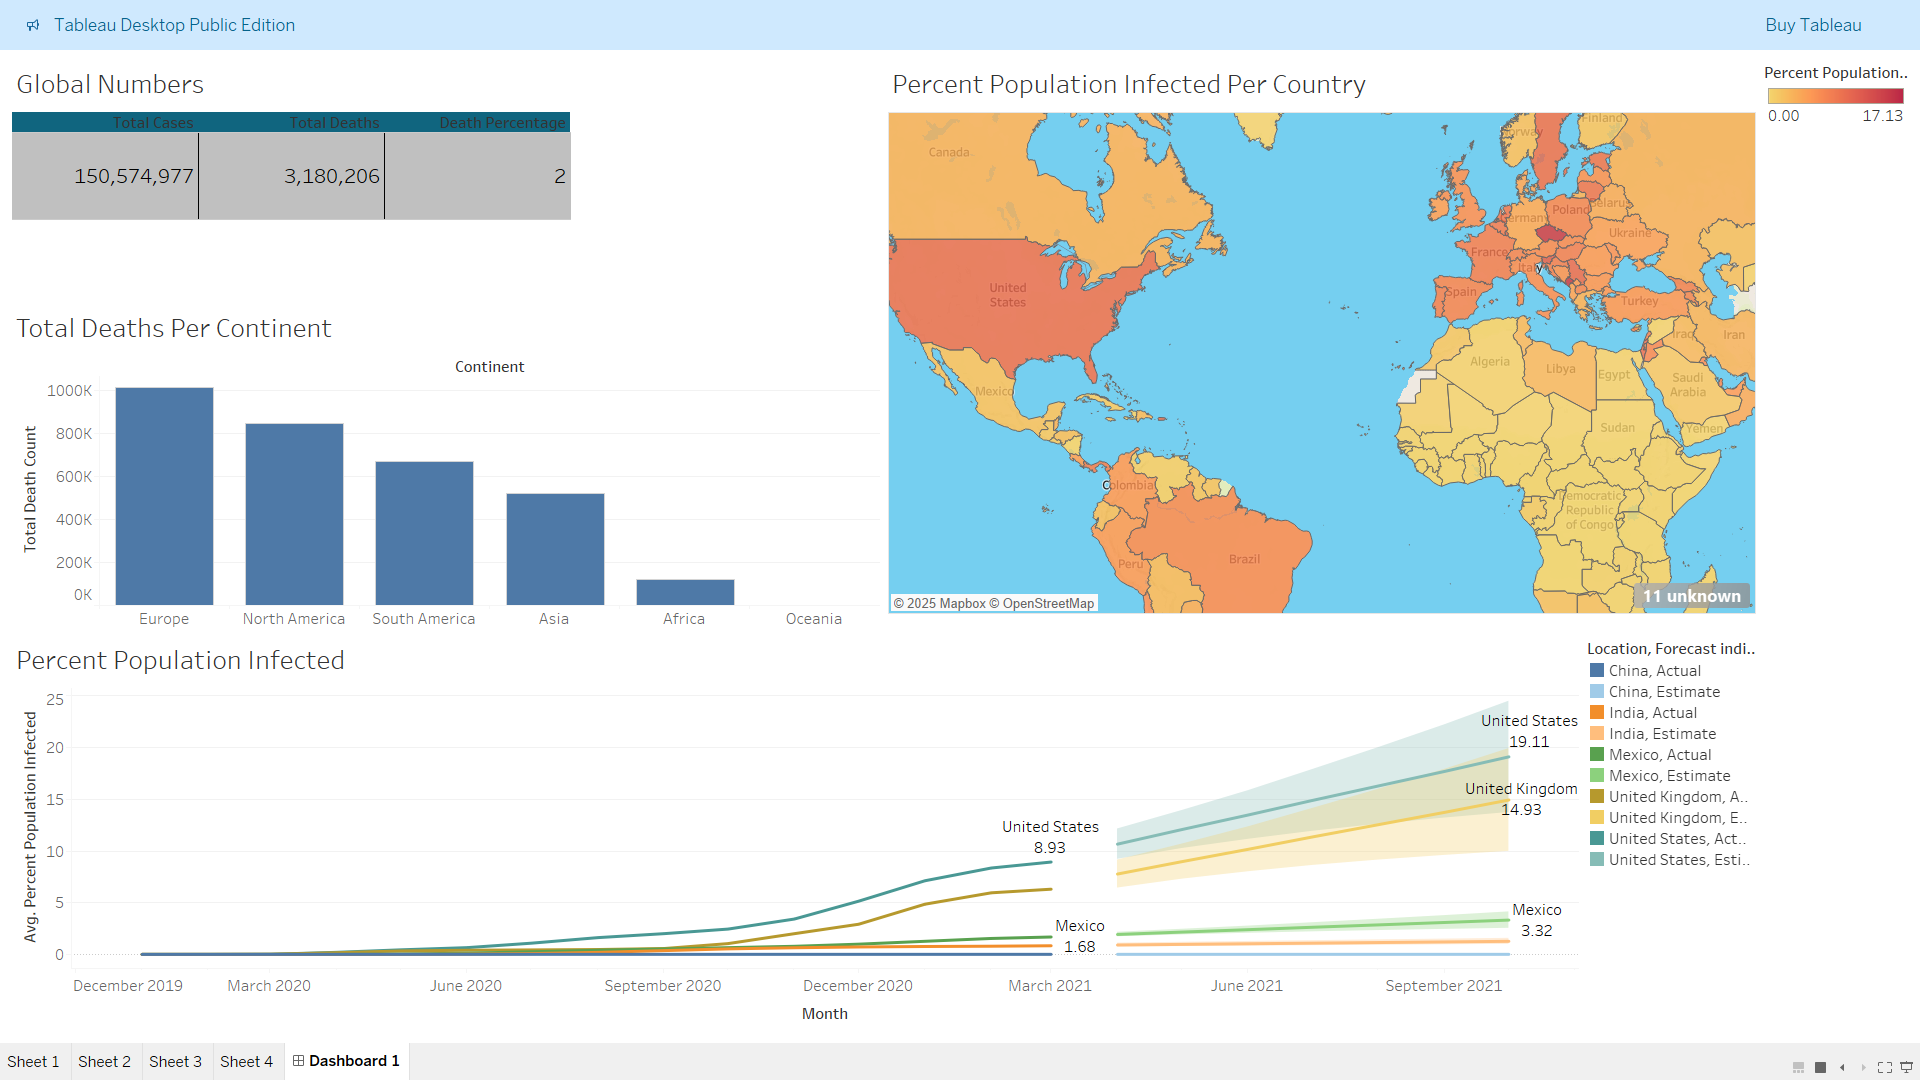

What the dashboard file says about the page in this screenshot:
{"tool":"tableau","page":{"name":"Dashboard 1","canvas":[1000,1000],"units":"permille","ordinal":0},"visuals":[{"type":"worksheet","title":"Sheet 1","mark":"Automatic","box":[6.8,12.9,428.6,243.5]},{"type":"worksheet","title":"Sheet 3","mark":"Automatic","box":[435.4,12.9,428.6,574.1]},{"type":"legend","title":"Sheet 3","param":"[federated.1u6pgzk0rhh873144wigi0cf6ax3].[sum:PercentPopulationInfected:qk]","box":[864.1,12.9,129.1,117.7]},{"type":"worksheet","title":"Sheet 2","mark":"Automatic","rows":["TotalDeathCount"],"cols":["location"],"box":[6.8,256.4,428.6,330.6]},{"type":"worksheet","title":"Sheet 4","mark":"Automatic","rows":["PercentPopulationInfected"],"cols":["date"],"box":[6.8,587,770.8,400.1]},{"type":"legend","title":"Sheet 4","param":"[federated.0fv2uox0hbhi61182v4641vh426j].[none:Location:nk]\n[federated.0fv2uox0h","box":[777.6,587,86.5,400.1]}]}

Visuals, with their boxes on the dashboard's canvas, which has no fixed pixel size, in thousandths of its width and height (x1, y1, x2, y2). These are canvas units, not pixel positions in the 1920x1080 screenshot, which may show the page scaled, cropped or inside an application window:
"Sheet 1" worksheet: detection(7, 13, 435, 256)
"Sheet 3" worksheet: detection(435, 13, 864, 587)
"Sheet 3" legend: detection(864, 13, 993, 131)
"Sheet 2" worksheet: detection(7, 256, 435, 587)
"Sheet 4" worksheet: detection(7, 587, 778, 987)
"Sheet 4" legend: detection(778, 587, 864, 987)
